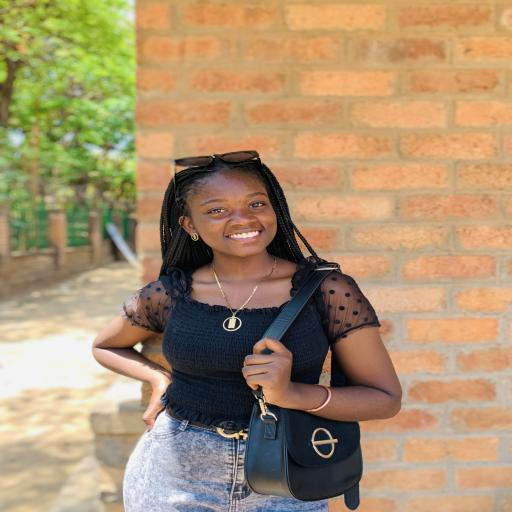LAURENE: (161, 150, 299, 273)
